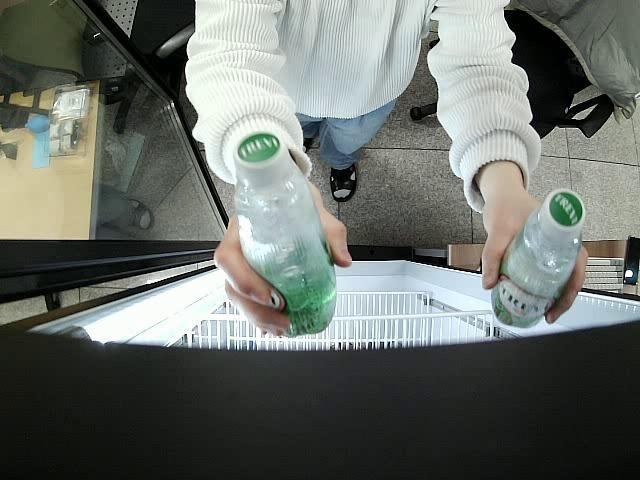18_trevi: (234, 132, 337, 334), (492, 190, 587, 326)
